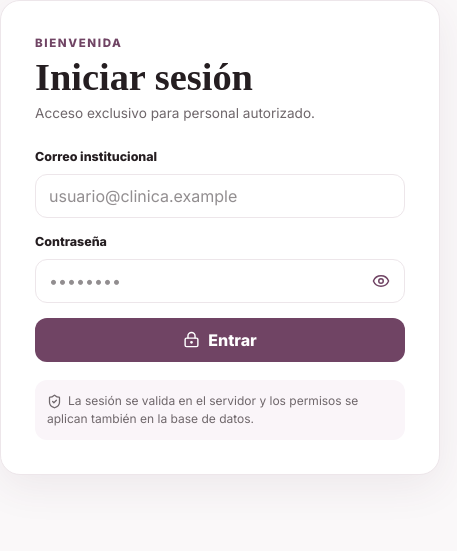
Test: LoginForm › envía las credenciales al flujo de autenticación
The width and height of the screenshot is (457, 551).
Type "staff@example.test" into the field labelled "Correo institucional" at (220, 196), box [35, 174, 405, 218]
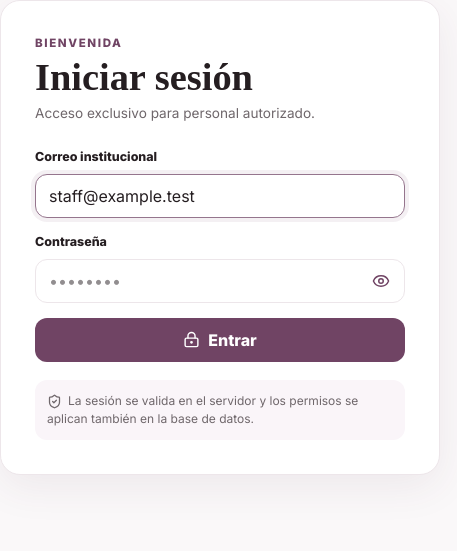
Type "password-test" into the password field labelled "Contraseña" at (220, 280), box [35, 258, 405, 302]
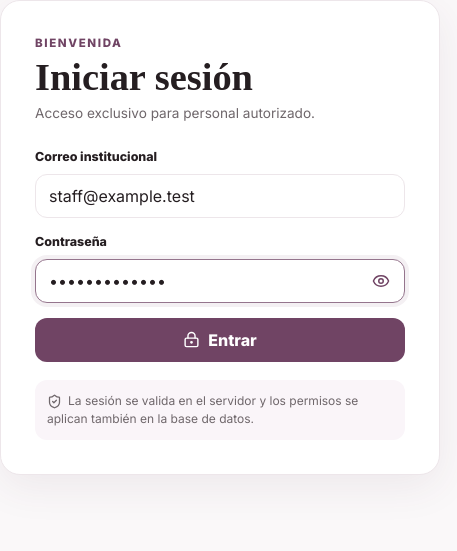
Click the button "Entrar" at (220, 340), box [35, 318, 405, 362]
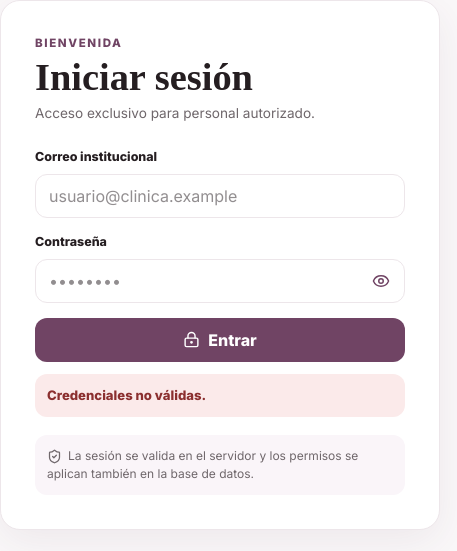
Check: the message reads "Credenciales no válidas.", box [47, 386, 206, 402]
